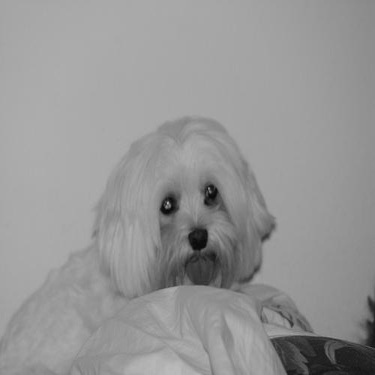dog: (2, 105, 327, 373)
